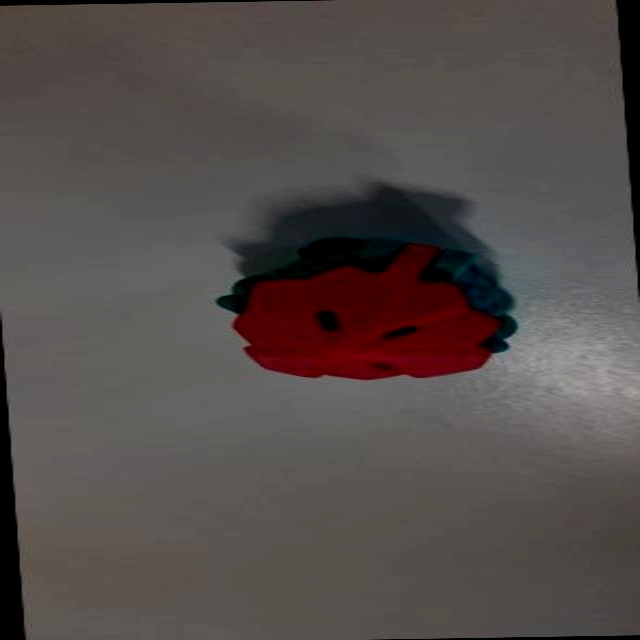House: (208, 224, 536, 394)
